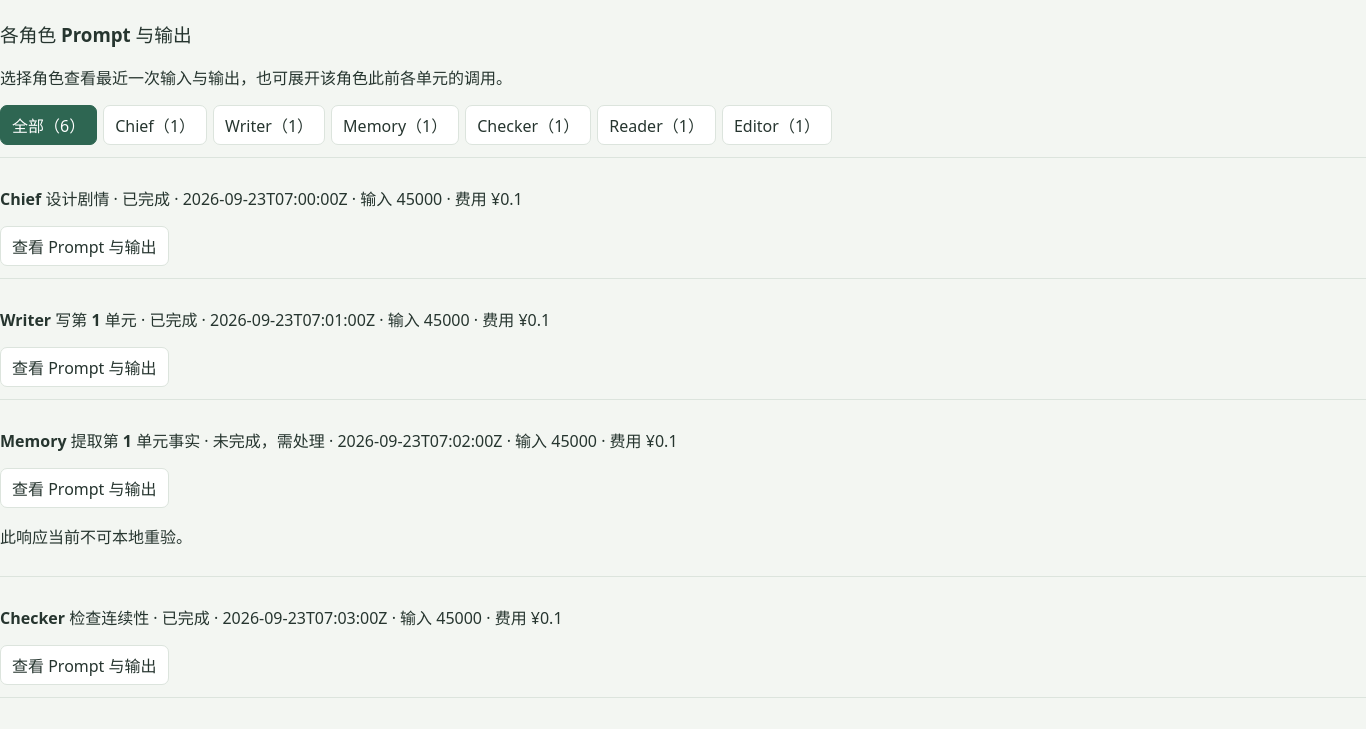
Test case: original agent call records › explains every sent constraint in Chinese without exposing unused projection material
Click the button with aria-label "Chief 设计剧情：查看 Prompt 与输出". click: (84, 246)
box: [0,226,168,266]
(page scrolled)
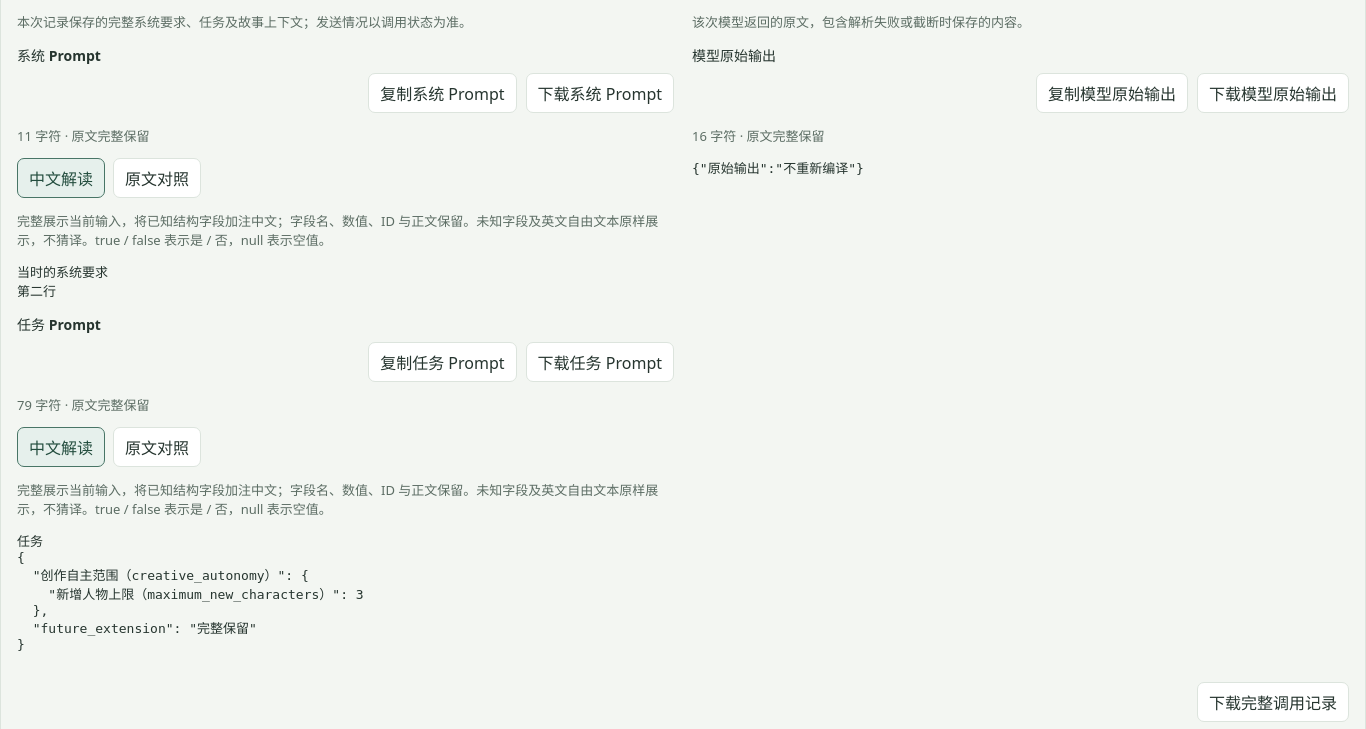
Expected: the text named "任务 Prompt" shows "\"新增人物上限（maximum_new_characters）\": 3", [17,534,364,652]
Expected: the text named "任务 Prompt" shows "\"future_extension\": \"完整保留\"", [17,534,364,652]
Click the button "复制任务 Prompt". click: (442, 362)
box: [368,342,517,382]
(page scrolled)
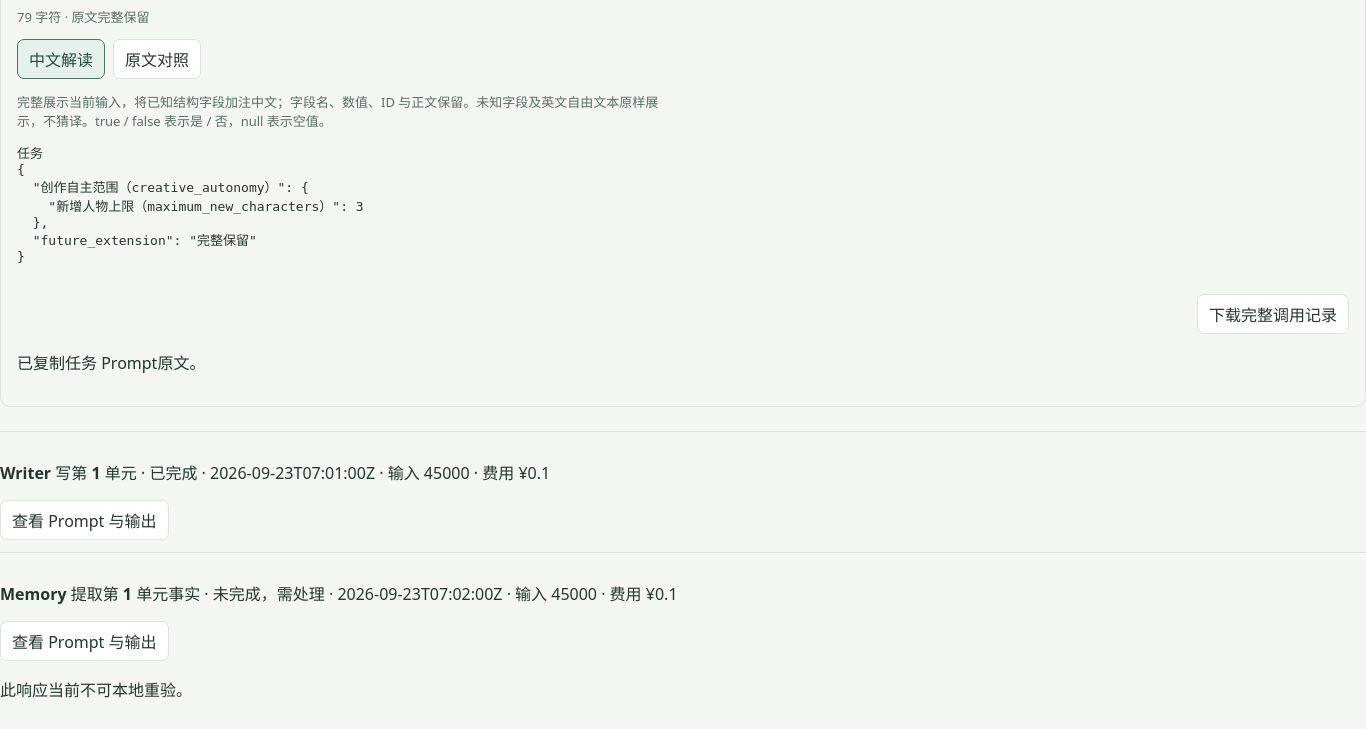
Expected: the text "已复制任务 Prompt原文。" is shown, [17,352,205,374]
